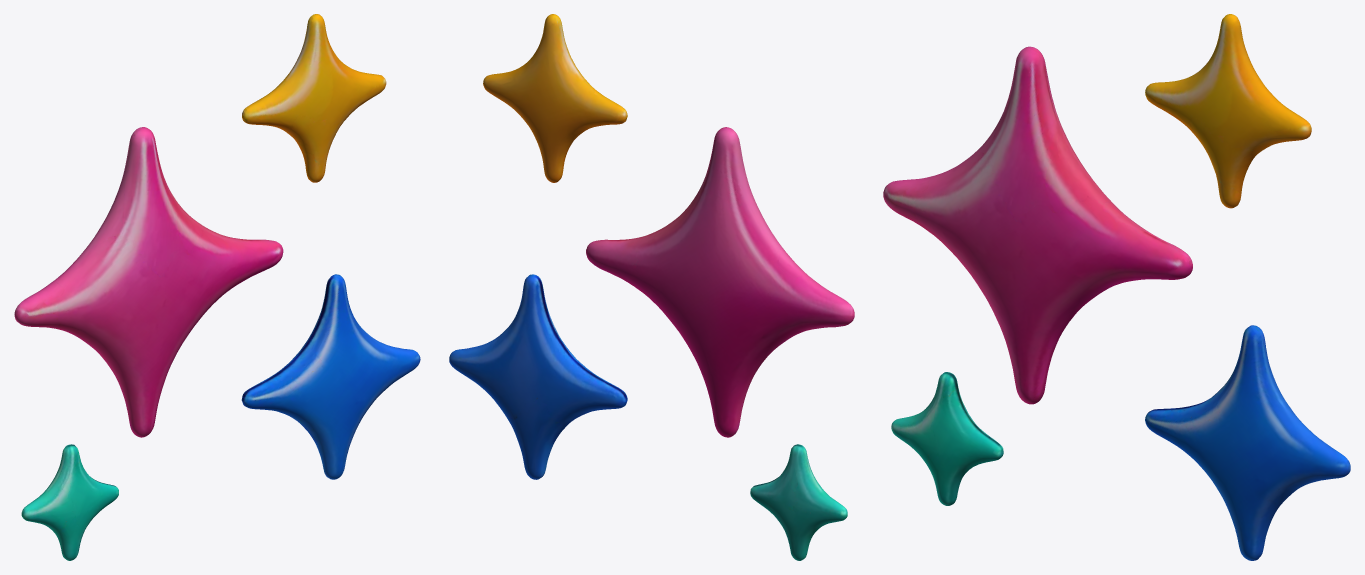
File: sparkle__main__r1__p1.glb
The picture shows the model from 3 angles, left to right: view 1: azimuth 30°, elevation 25°; view 2: azimuth 150°, elevation 25°; view 3: azimuth 330°, elevation 25°; orthographic projection. The views are drawn at different scales.
Visible parts, largest first — view 1: model; view 2: model; view 3: model.
Boxes of the visible parts, bbox=[...] form: model: bbox=[14, 14, 420, 560]; model: bbox=[449, 14, 854, 560]; model: bbox=[883, 14, 1350, 560].
Bounding box in the file's own units: 1.5 × 1.72 × 0.1976.
1 material, 1 textured.
